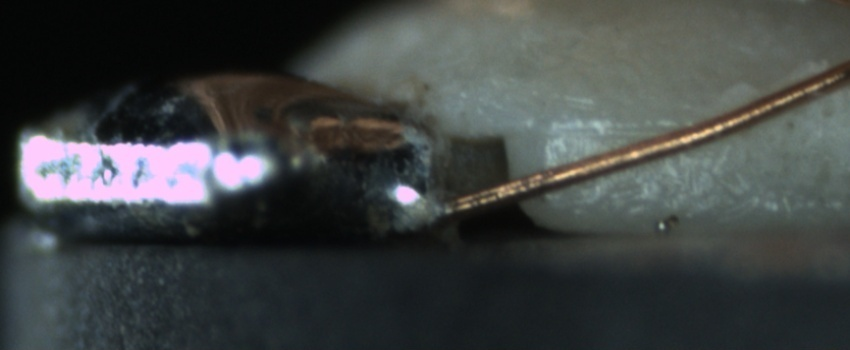DL: (538, 100, 692, 159)
